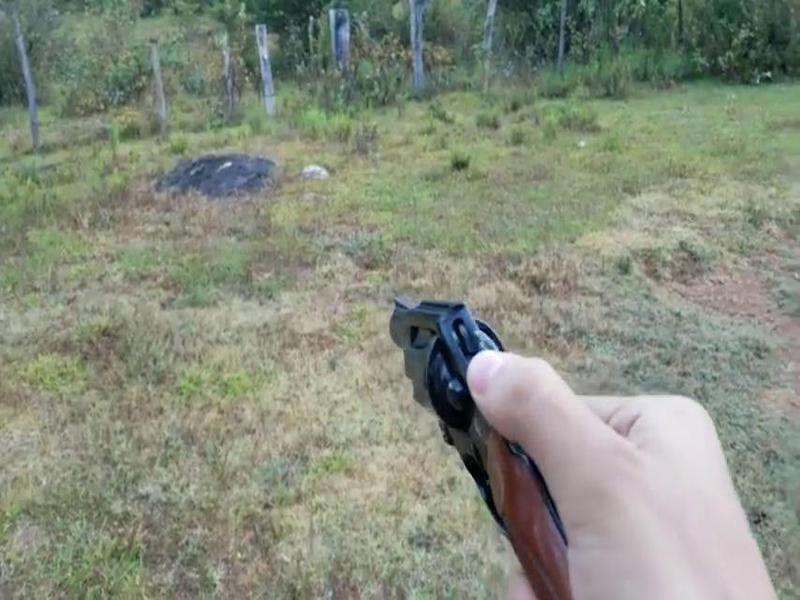Revolver: (356, 275, 574, 526)
